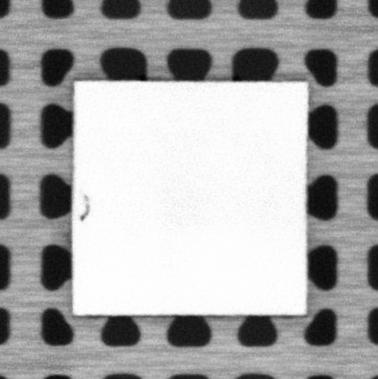DIE_INK: (80, 194, 90, 222)
